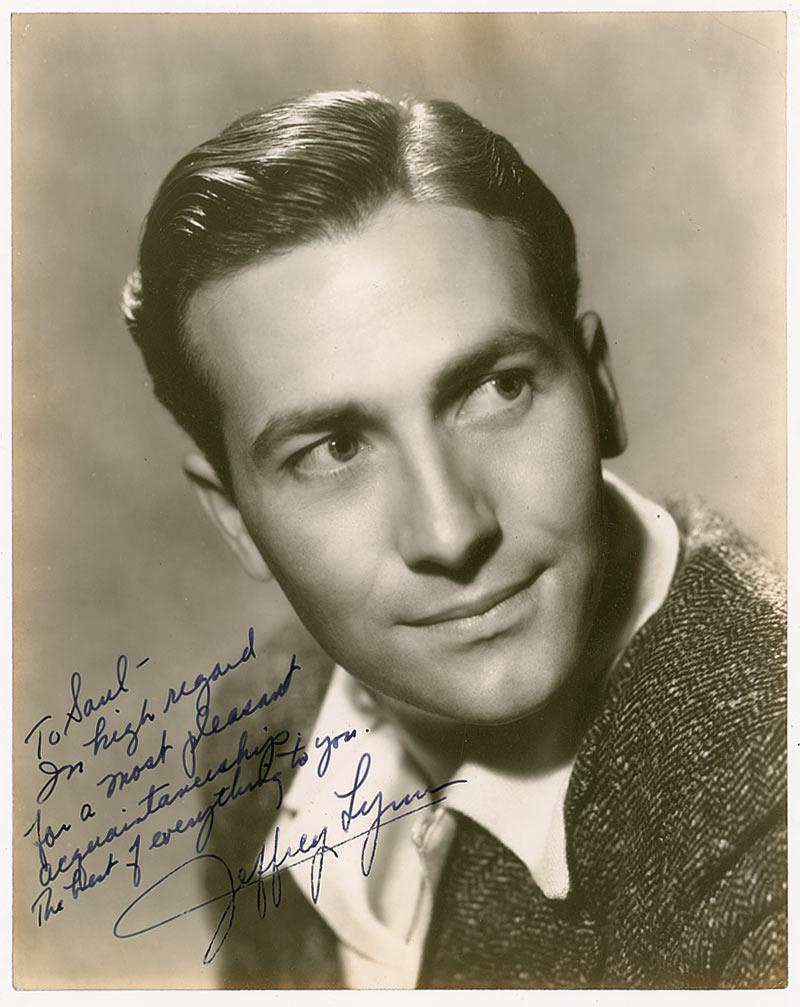bad: (247, 333, 632, 718)
